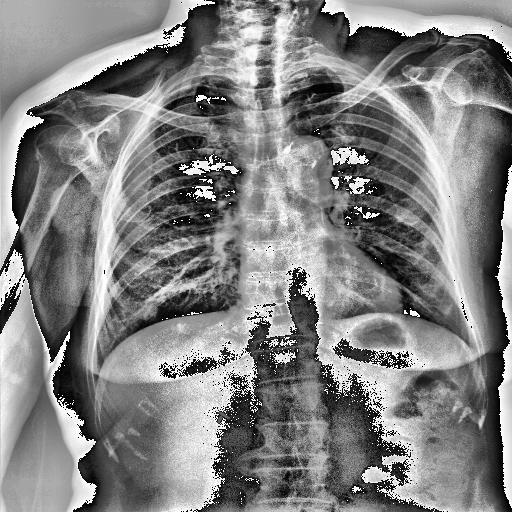0- Aortic enlargement: (276, 134, 333, 174), (288, 133, 332, 183), (282, 134, 334, 174)
11- Pleural thickening: (164, 76, 204, 94), (286, 63, 330, 73)
13- Pulmonary fibrosis: (442, 301, 454, 318), (441, 302, 453, 316)
2- Calcification: (276, 134, 333, 174), (282, 134, 334, 174)
9- Other lesion: (441, 302, 453, 316)
